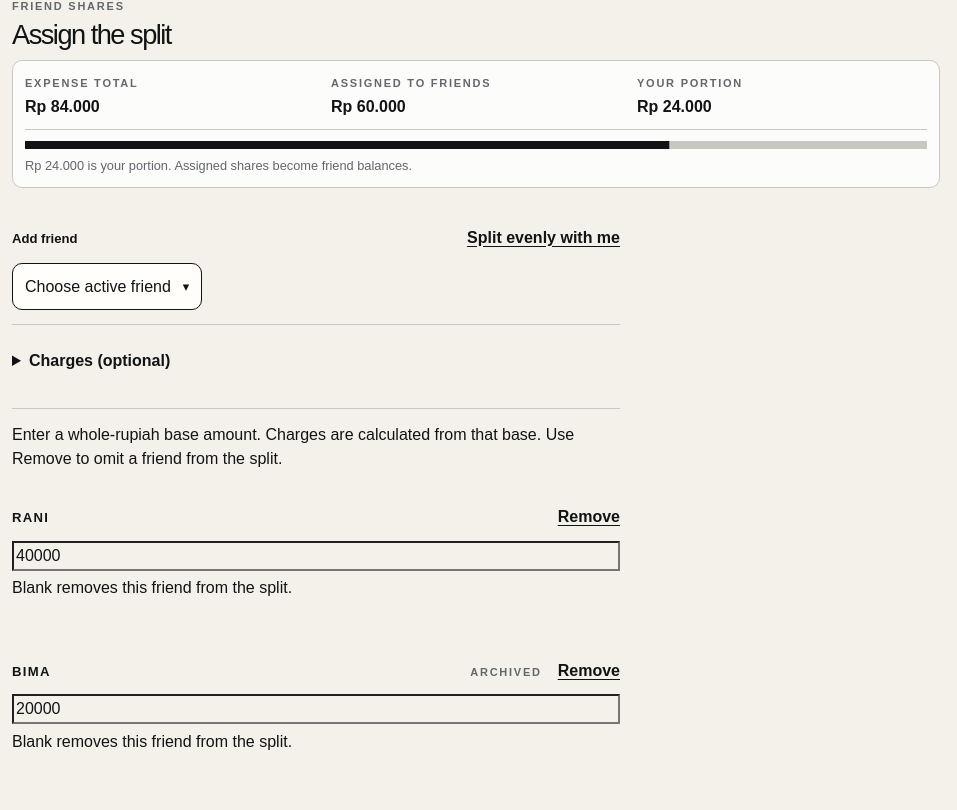
it: expense share editor › preserves archived rows and entered values after validation
Replace the text in the field labelled "Rani" with "84.00" at (316, 556), box [12,541,620,571]
(page scrolled)
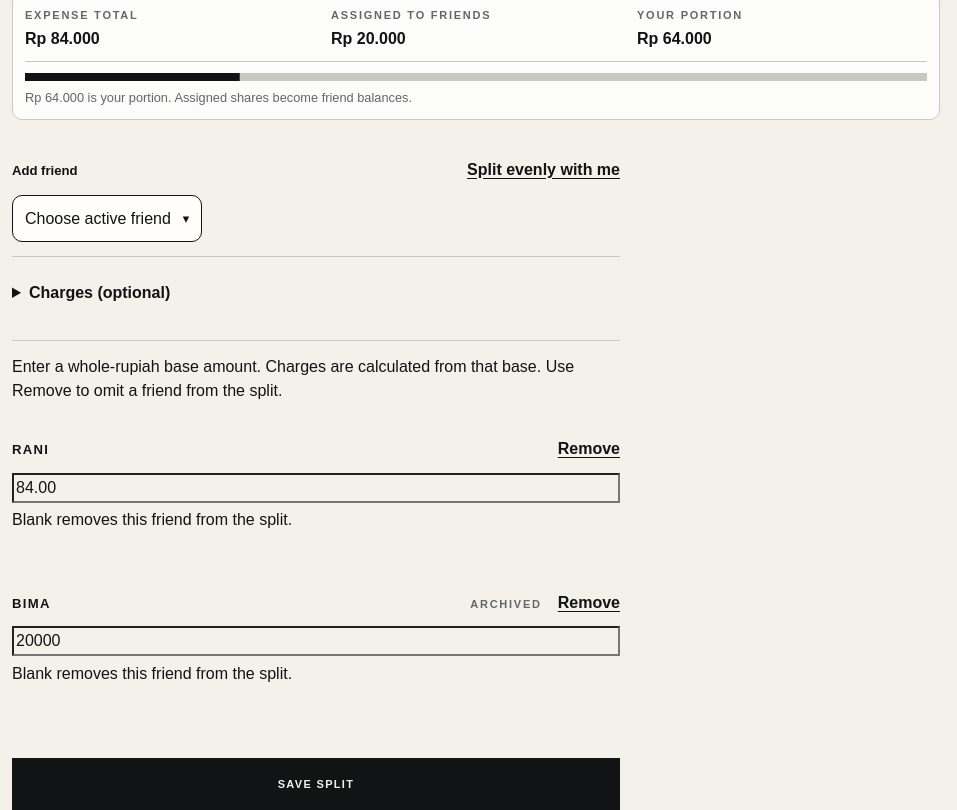
Submit the form named "Save split", box [12,136,620,809]
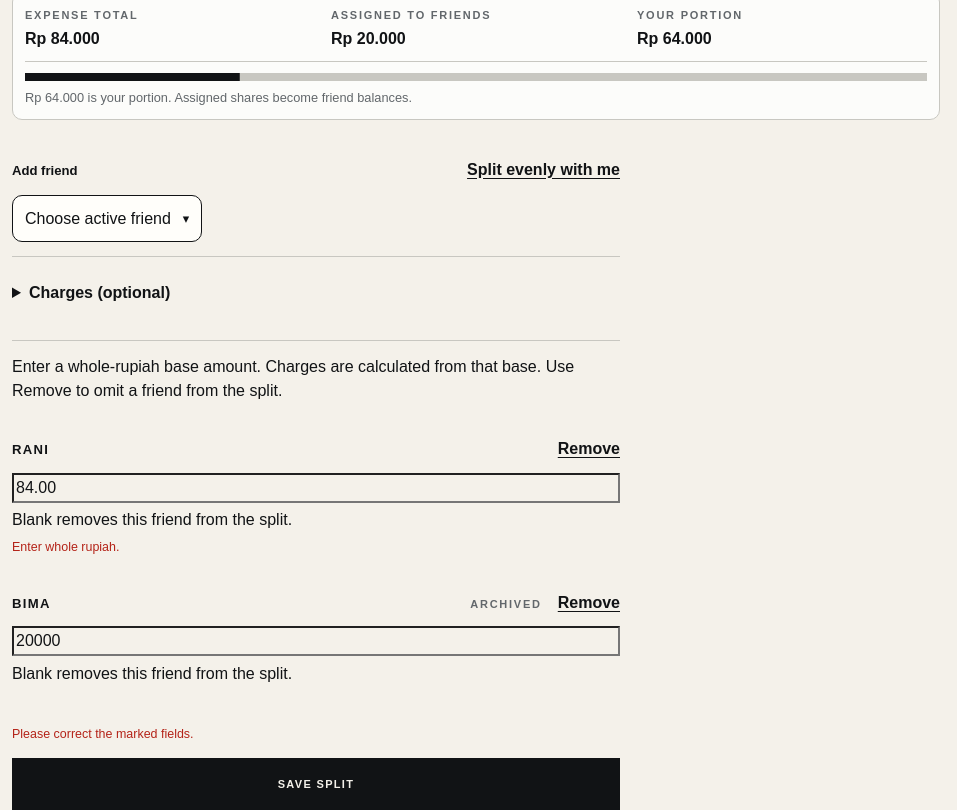
Expected: the field labelled "Bima ARCHIVED" holds "20000", [12,626,620,656]
Now the text "Please correct the marked fields." is shown, box [12,726,194,740]
Now the text "Enter whole rupiah." is shown, box [12,540,119,554]
